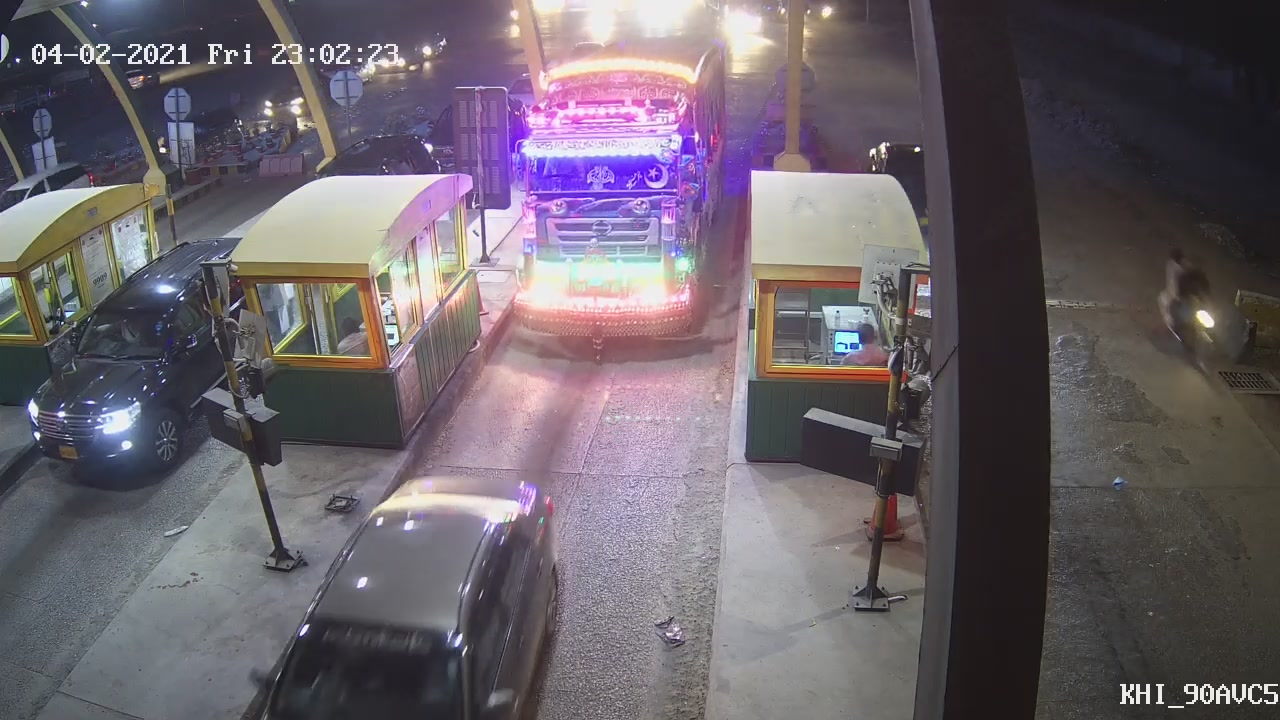F5: (506, 70, 712, 349)
